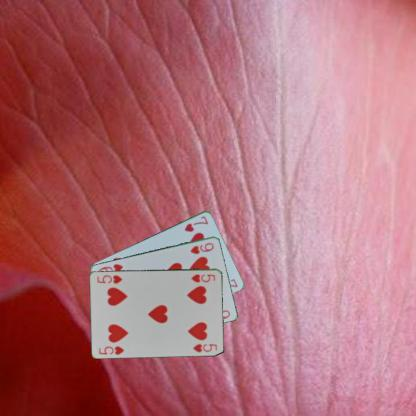5h: (96, 343, 126, 356), (189, 272, 217, 284)
7h: (182, 213, 209, 233)
9h: (188, 240, 215, 255)
